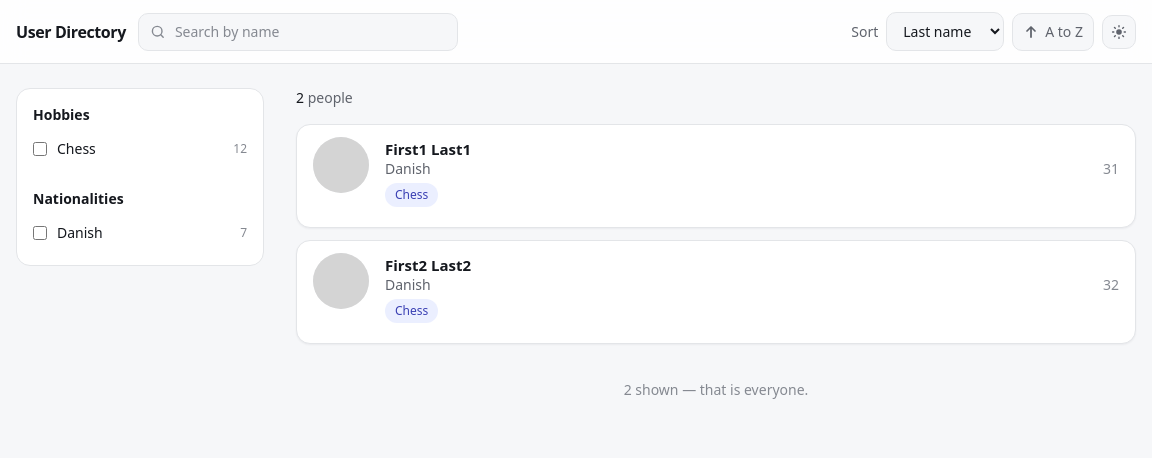
Test: App › typing a full name › lets the surname be typed after the pause
Type "joy " into the search field named "Search by first or last name" at (298, 32), box [138, 12, 458, 50]
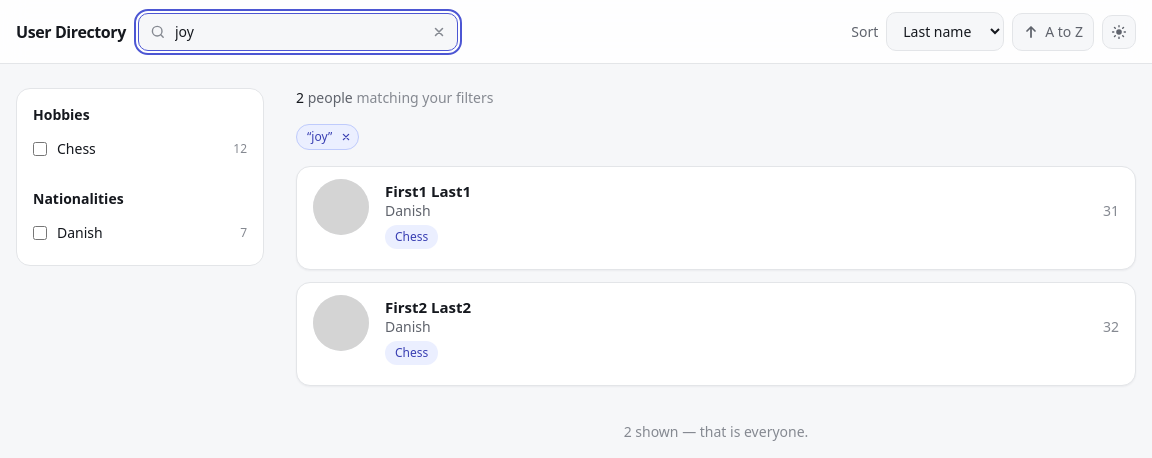
Type "abbott" into the search field named "Search by first or last name" at (298, 32), box [138, 12, 458, 50]
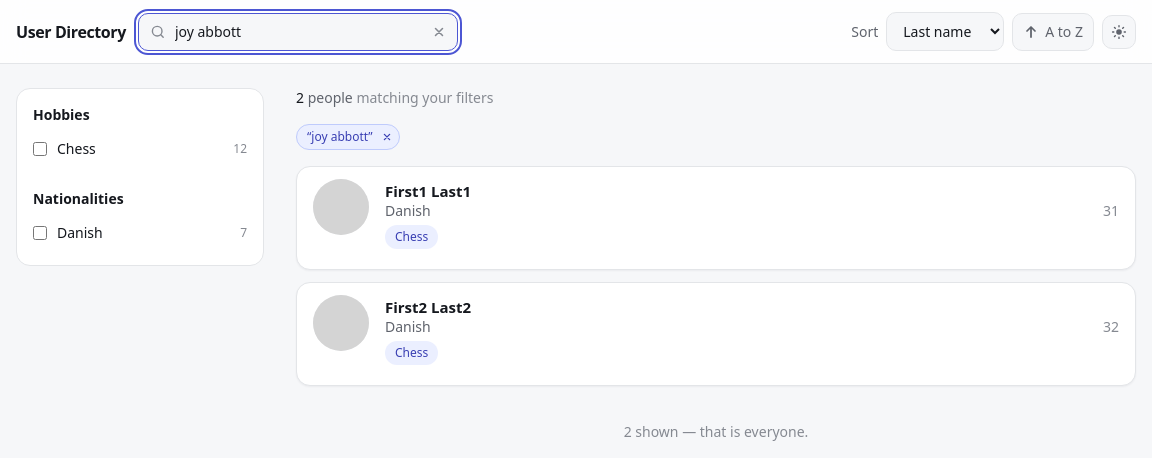
expect the search field named "Search by first or last name" holds "joy abbott": met, box [138, 12, 458, 50]
